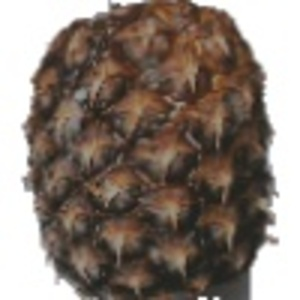abacaxi: (17, 4, 286, 294)
